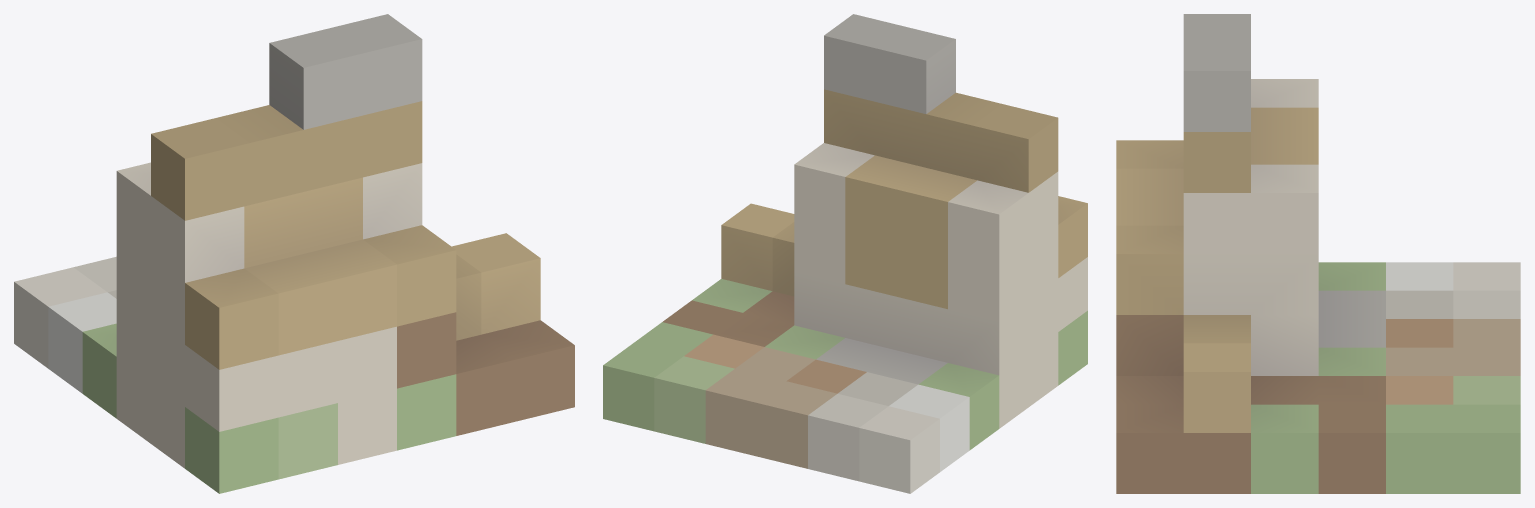
File: sheep_farm.lite.glb
3 renders of one model, left to right at view 1: azimuth 30°, elevation 25°; view 2: azimuth 150°, elevation 25°; view 3: azimuth 270°, elevation 25°, orthographic. The views are drawn at different scales.
Visible parts, largest first — view 1: sheep_farm; view 2: sheep_farm; view 3: sheep_farm.
Boxes of the visible parts, bbox=[...] form: sheep_farm: bbox=[14, 14, 574, 493]; sheep_farm: bbox=[603, 14, 1087, 493]; sheep_farm: bbox=[1116, 14, 1520, 493].
Bounding box in the file's own units: 3 × 3 × 3.
